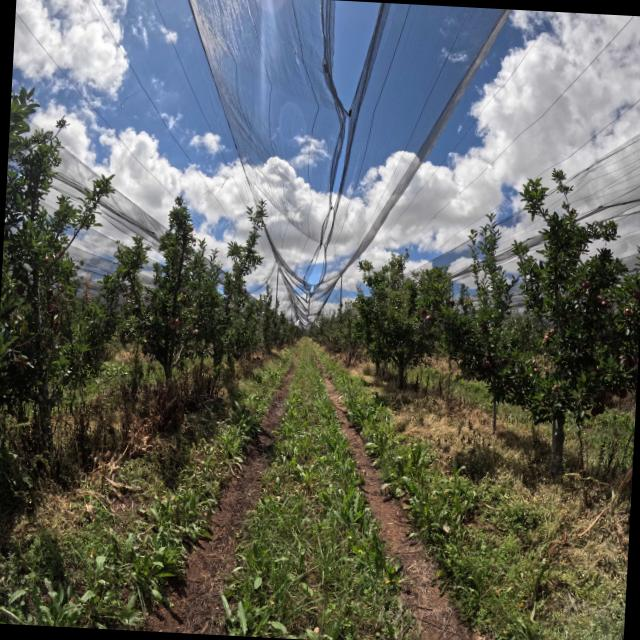-FireBlight-: (50, 294, 71, 330)
